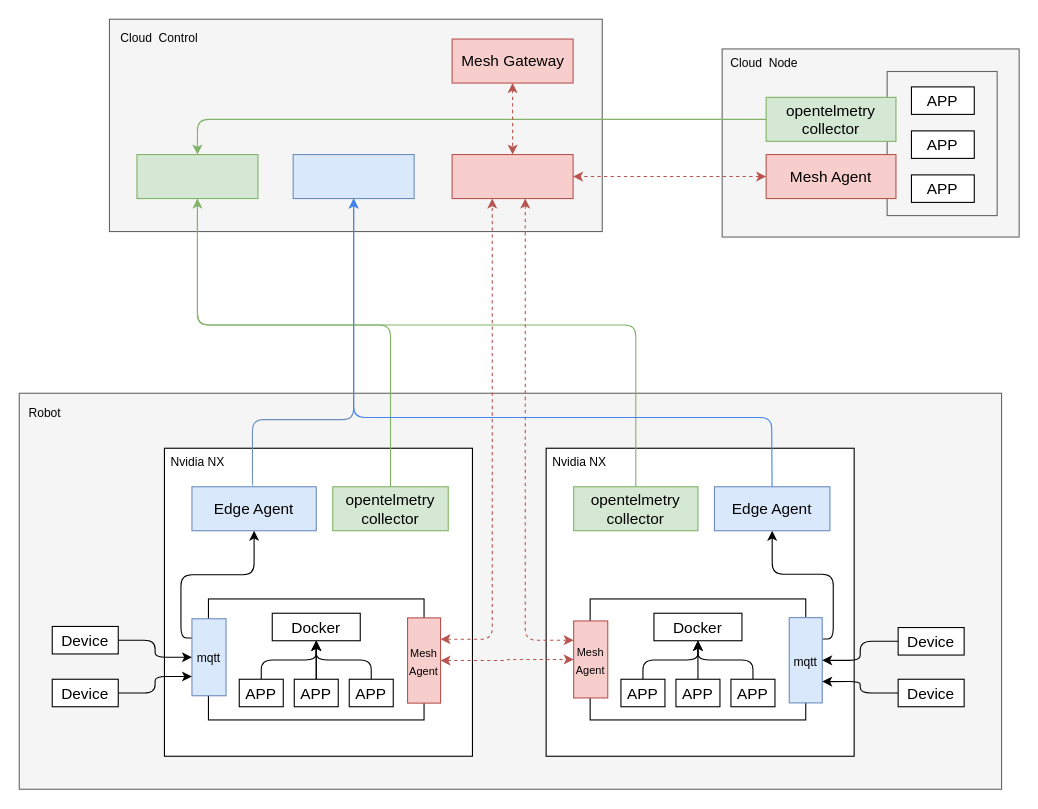
This 1038x809 diagram has some shape labels left out. The box of each missing label's shape, as (x1, y1, x2, y2) in pixels:
Edge Server: (292, 153, 414, 199)
Mesh Server: (451, 153, 573, 199)
opentelemetry: (136, 153, 258, 199)
